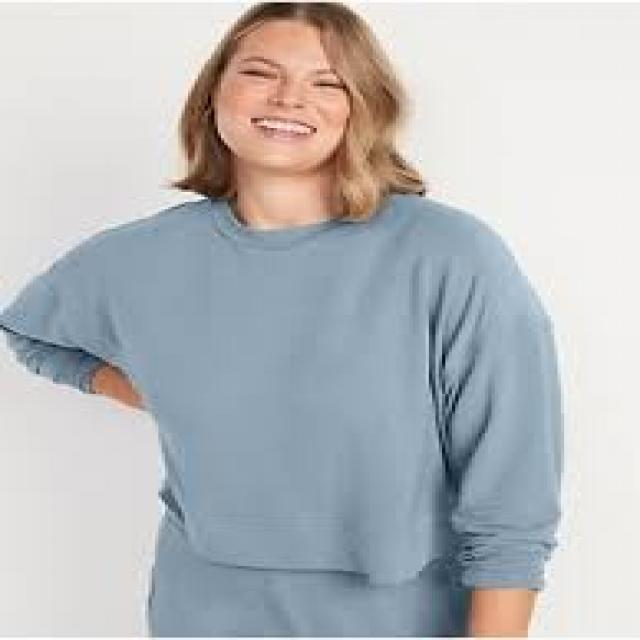plain: (15, 194, 577, 579)
